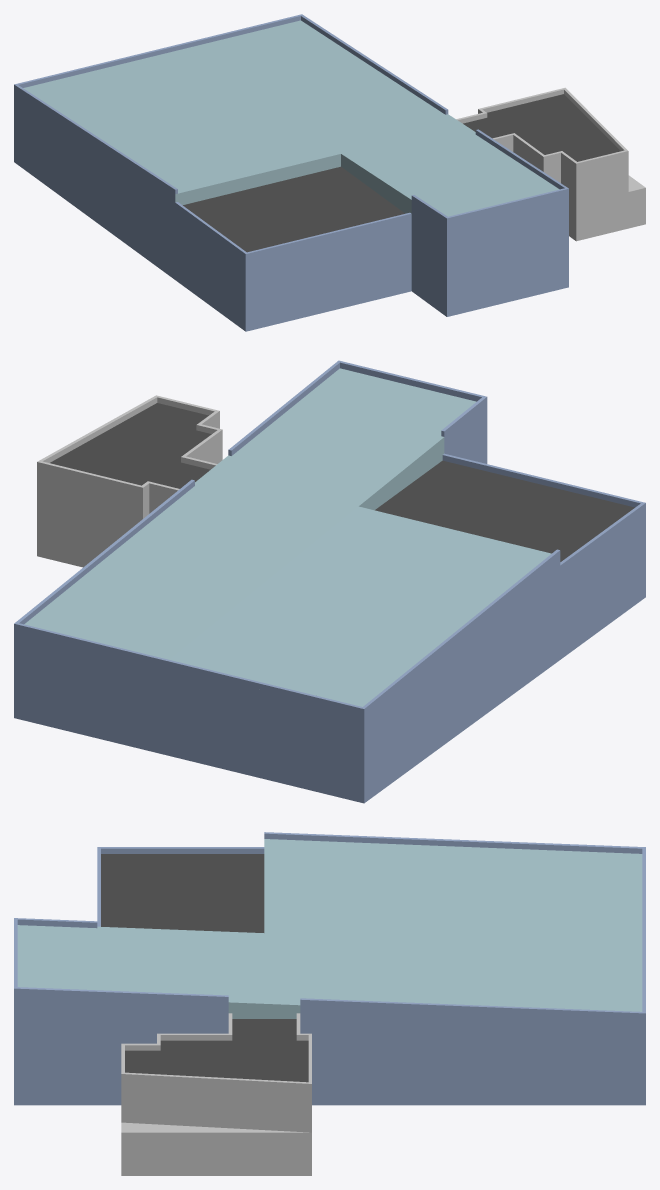
The model's file is plot3.fbx.
3 renders of one model, top to bottom at view 1: azimuth 30°, elevation 25°; view 2: azimuth 150°, elevation 25°; view 3: azimuth 270°, elevation 25°, orthographic. The views are drawn at different scales.
Visible parts, largest first — view 1: plot3_level0_floor, plot3_level-1_walls, plot3_level-2_walls; view 2: plot3_level0_floor, plot3_level-1_walls, plot3_level-2_walls; view 3: plot3_level0_floor, plot3_level-1_walls, plot3_level-2_walls, plot3_level-1_floor.
Part boxes in pixels (<box>): plot3_level0_floor: <box>23,20,620,252</box>; plot3_level-1_walls: <box>14,14,628,294</box>; plot3_level-2_walls: <box>14,126,645,331</box>; plot3_level0_floor: <box>24,368,634,706</box>; plot3_level-1_walls: <box>14,360,645,758</box>; plot3_level-2_walls: <box>14,512,645,803</box>; plot3_level0_floor: <box>17,839,642,1082</box>; plot3_level-1_walls: <box>14,832,645,1132</box>; plot3_level-2_walls: <box>14,1062,645,1175</box>; plot3_level-1_floor: <box>121,1122,307,1132</box>.
Bounding box in the file's own units: 4700 × 1080 × 5300.
